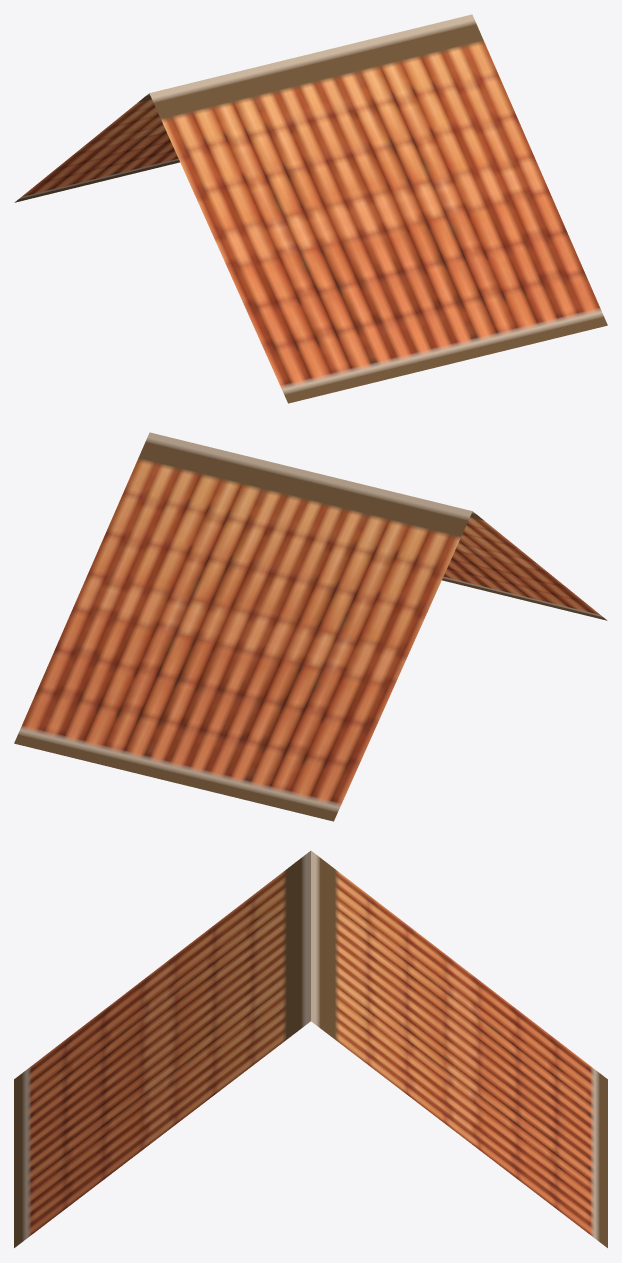
The model's file is maiGiuaThapTrang.glb.
The picture shows the model from 3 angles, top to bottom: view 1: azimuth 30°, elevation 25°; view 2: azimuth 150°, elevation 25°; view 3: azimuth 270°, elevation 25°; orthographic projection. The views are drawn at different scales.
Parts seen in each view (by area): view 1: Object_4.005; view 2: Object_4.005; view 3: Object_4.005.
Part boxes in pixels (x1,y1,x2,y2): Object_4.005: (14,14,607,403); Object_4.005: (14,432,607,821); Object_4.005: (14,851,607,1247).
Size of the model in its own units: 0.2314 by 0.1441 by 0.3402.
Materials: 1 (1 with a texture image).
